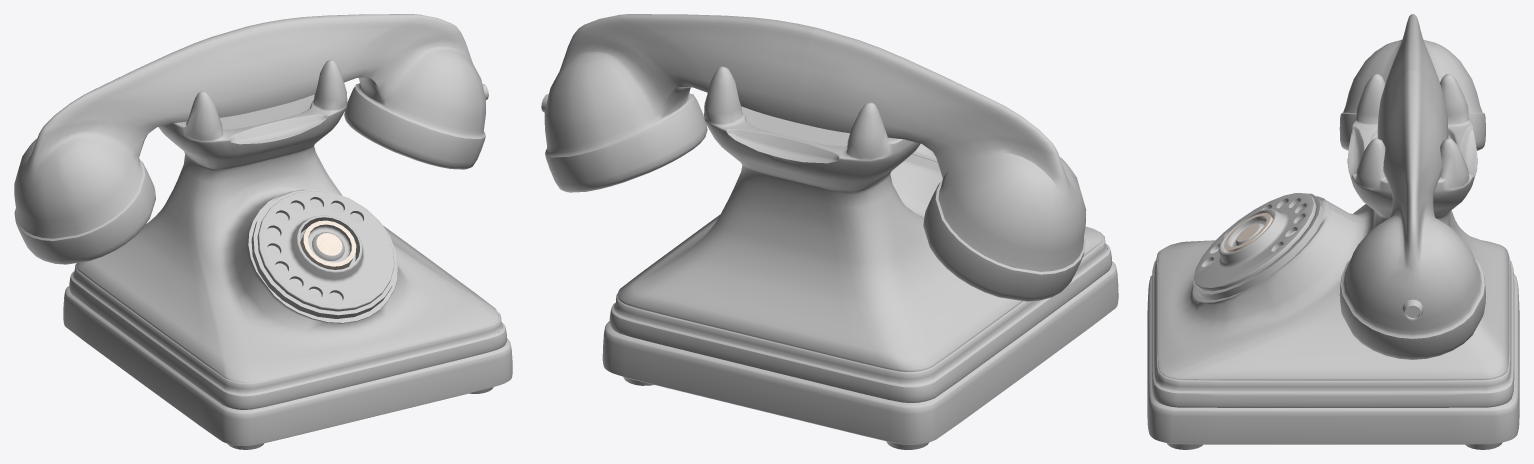
File: Tele_NoChord_02.FBX
The picture shows the model from 3 angles, left to right: view 1: azimuth 30°, elevation 25°; view 2: azimuth 150°, elevation 25°; view 3: azimuth 270°, elevation 25°; orthographic projection. The views are drawn at different scales.
Visible parts, largest first — view 1: Group_003, Group_001, Group_002; view 2: Group_003, Group_001; view 3: Group_003, Group_001, Group_002.
Boxes of the visible parts, x1,y1,x2,y2 form: Group_003: (63,59,512,449); Group_001: (14,14,488,264); Group_002: (257,191,394,311); Group_003: (602,66,1118,449); Group_001: (541,14,1086,301); Group_003: (1147,74,1519,449); Group_001: (1339,14,1485,359); Group_002: (1194,193,1316,291).
Size of the model in its own units: 13.52 by 8.55 by 9.18.
